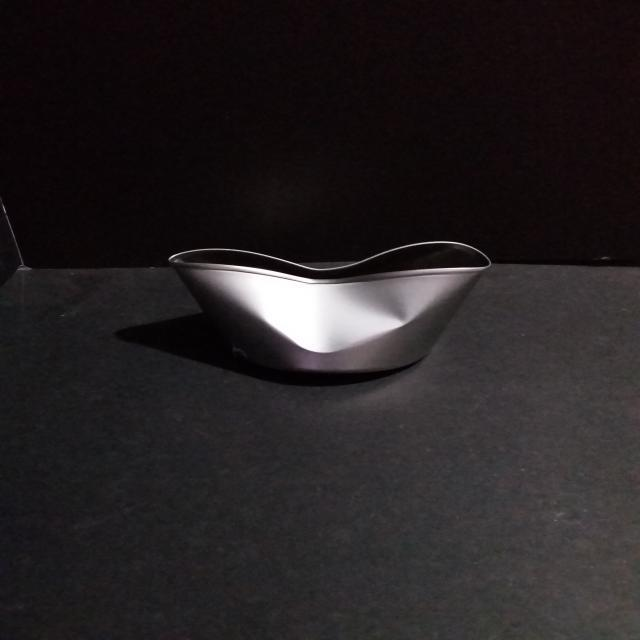metal-can: (168, 230, 497, 382)
